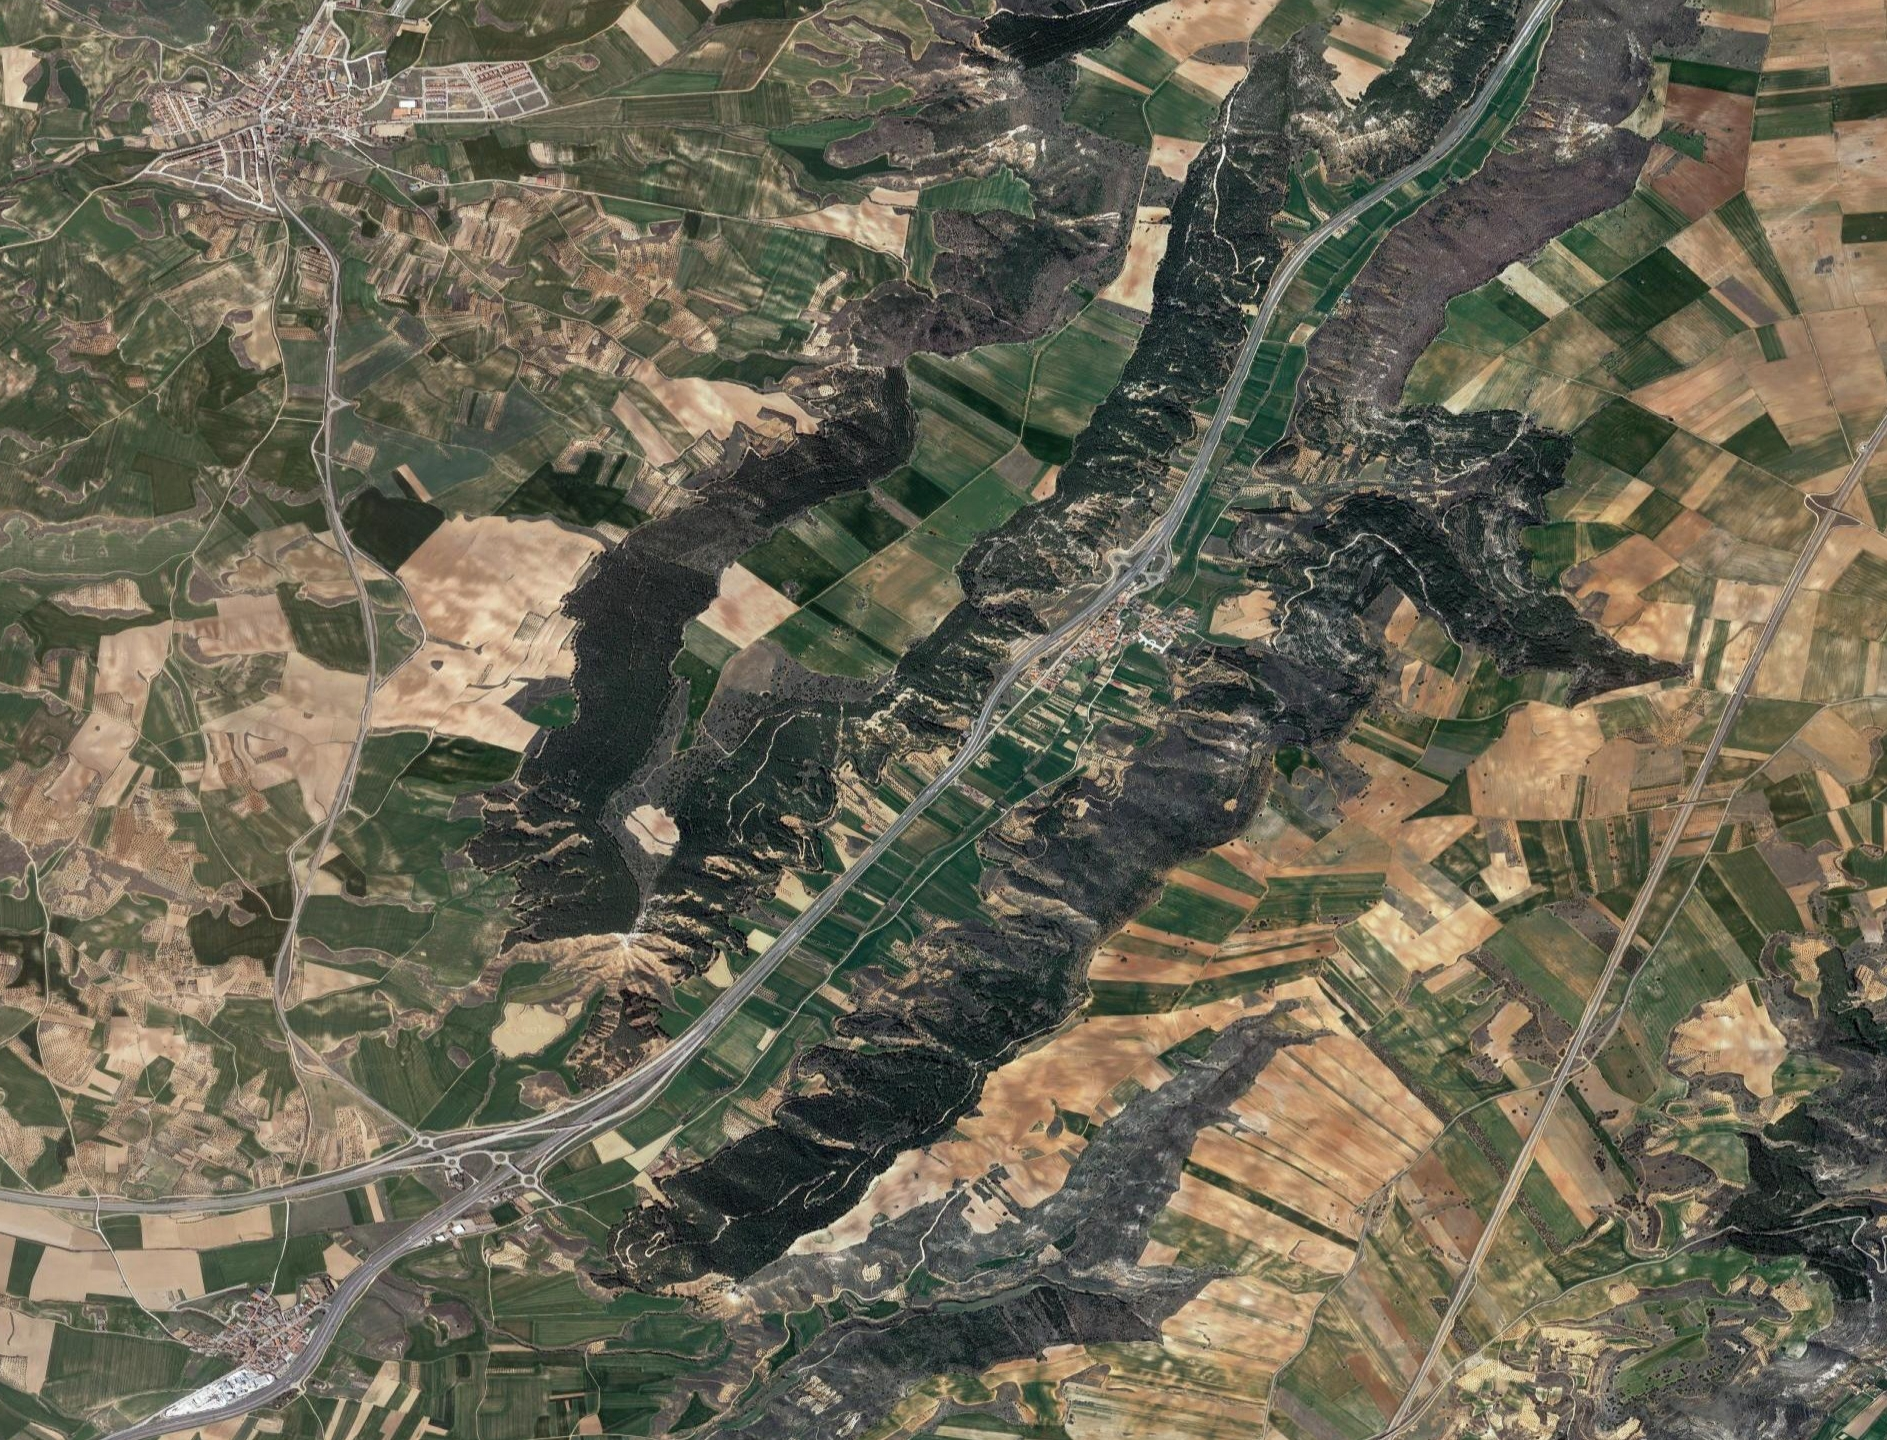motorway: (21, 967, 759, 1438), (1086, 2, 1595, 529), (751, 529, 1187, 988)
